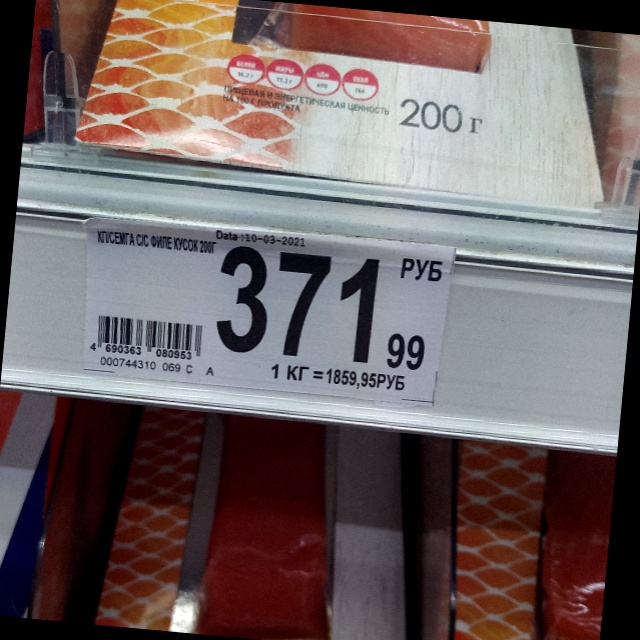barcode: (86, 314, 204, 363)
name: (92, 229, 217, 256)
price: (217, 242, 428, 382)
price_tag: (81, 216, 454, 408)
